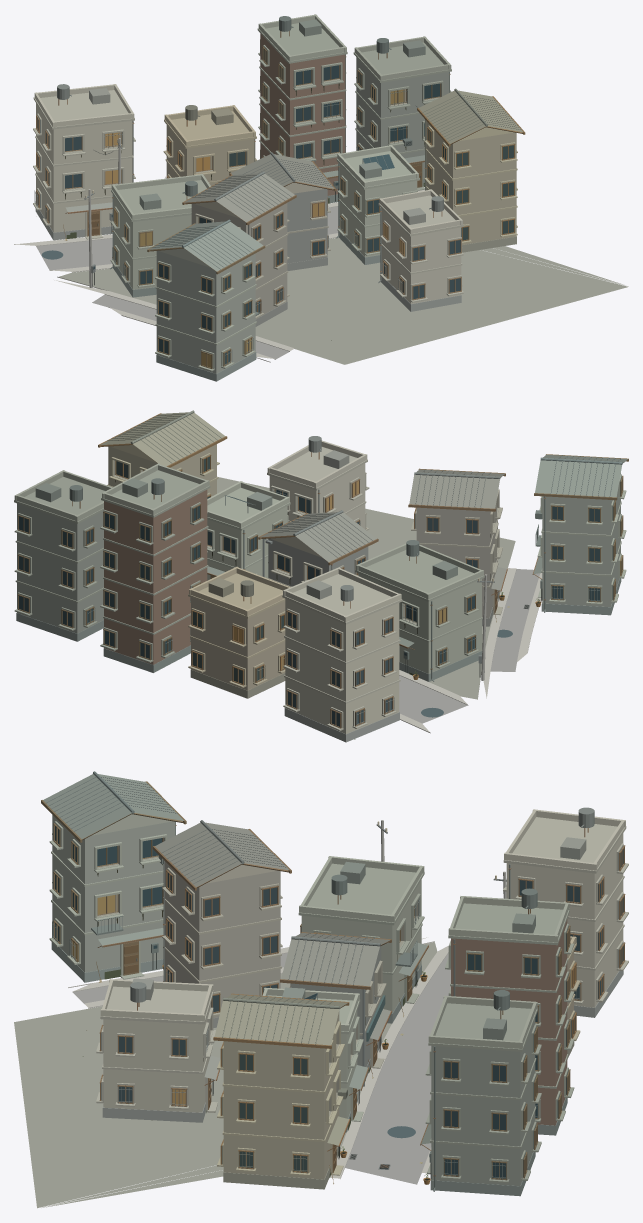
The model's file is street_6_4.glb.
3 views of the same model, one above another, from view 1: azimuth 30°, elevation 25°; view 2: azimuth 150°, elevation 25°; view 3: azimuth 270°, elevation 25° (orthographic). The views are drawn at different scales.
Visible parts, largest first — view 1: trim.007, plaster.007, ground.076, concrete.003, roof_metal.007, wood.007, glass.007, metal.007, graybrick.006, brick.003, road.022, paving.053 (+2 smaller); view 2: plaster.007, trim.007, concrete.003, roof_metal.007, brick.003, wood.007, glass.007, graybrick.006, metal.007, road.022, ground.076, paving.053 (+1 smaller); view 3: concrete.003, trim.007, plaster.007, ground.076, roof_metal.007, wood.007, road.022, metal.007, glass.007, brick.003, graybrick.006, paving.053 (+3 smaller).
Boxes of the visible parts, x1=… form: trim.007: x1=33, y1=23, x2=517, y2=371; plaster.007: x1=34, y1=14, x2=514, y2=303; ground.076: x1=59, y1=237, x2=628, y2=364; concrete.003: x1=88, y1=57, x2=516, y2=373; roof_metal.007: x1=65, y1=19, x2=522, y2=271; wood.007: x1=36, y1=46, x2=525, y2=368; glass.007: x1=37, y1=49, x2=513, y2=364; metal.007: x1=34, y1=16, x2=521, y2=366; graybrick.006: x1=35, y1=179, x2=516, y2=381; brick.003: x1=260, y1=33, x2=345, y2=195; road.022: x1=36, y1=206, x2=338, y2=359; paving.053: x1=14, y1=189, x2=424, y2=362; plaster.007: x1=14, y1=440, x2=483, y2=733; trim.007: x1=14, y1=447, x2=626, y2=730; concrete.003: x1=17, y1=444, x2=620, y2=690; roof_metal.007: x1=35, y1=412, x2=627, y2=646; brick.003: x1=104, y1=490, x2=207, y2=664; wood.007: x1=17, y1=413, x2=628, y2=728; glass.007: x1=19, y1=456, x2=621, y2=726; graybrick.006: x1=16, y1=538, x2=621, y2=742; metal.007: x1=69, y1=414, x2=621, y2=726; road.022: x1=399, y1=569, x2=539, y2=723; ground.076: x1=217, y1=476, x2=515, y2=699; paving.053: x1=399, y1=568, x2=542, y2=733; concrete.003: x1=52, y1=815, x2=573, y2=1186; trim.007: x1=49, y1=817, x2=628, y2=1183; plaster.007: x1=91, y1=809, x2=625, y2=1118; ground.076: x1=14, y1=942, x2=437, y2=1208; roof_metal.007: x1=43, y1=774, x2=586, y2=1145; wood.007: x1=41, y1=781, x2=625, y2=1180; road.022: x1=72, y1=953, x2=450, y2=1184; metal.007: x1=45, y1=776, x2=594, y2=1191; glass.007: x1=55, y1=826, x2=623, y2=1178; brick.003: x1=451, y1=919, x2=567, y2=1125; graybrick.006: x1=51, y1=942, x2=623, y2=1196; paving.053: x1=68, y1=937, x2=448, y2=1178.
Bounding box in the file's own units: 39.1 × 14.22 × 36.35.
